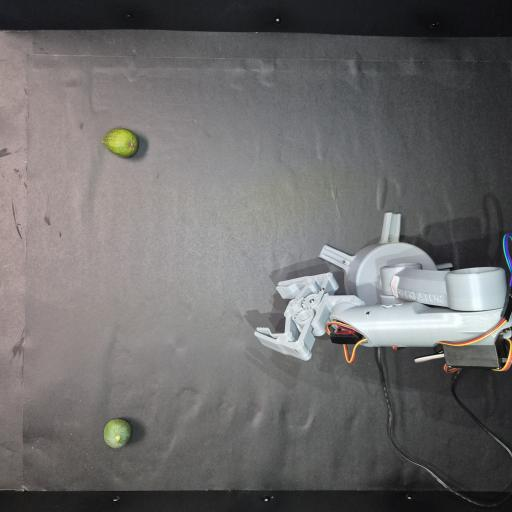higo: (102, 128, 138, 157), (104, 419, 131, 448)
